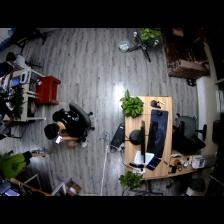normal: (44, 110, 87, 152), (2, 150, 50, 178), (5, 51, 28, 73)
